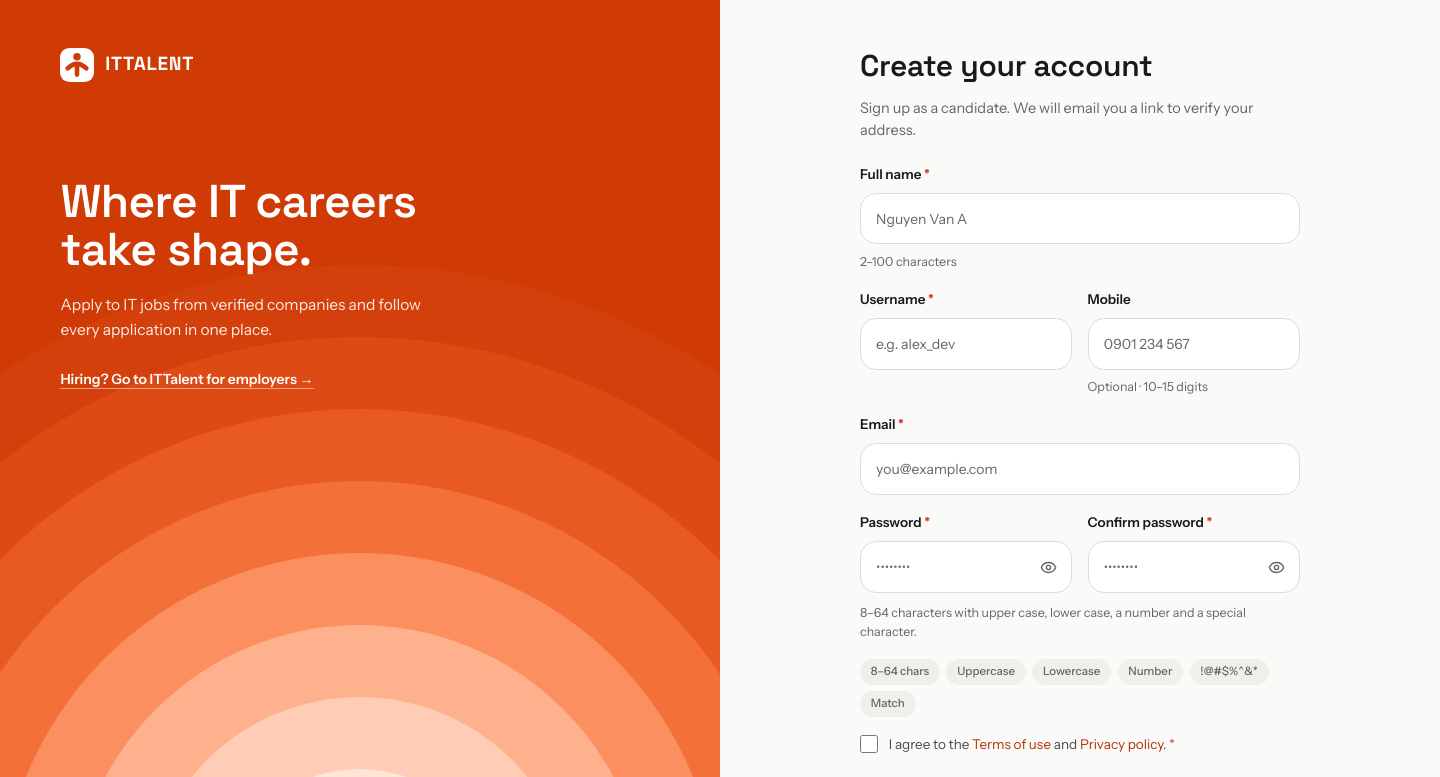
Scenario: RegisterPage › updates password requirement rules as the user types
This screenshot has width=1440, height=777.
Type "Secret123!" into the password field labelled "Password *".
click(966, 567); type("Secret123!")  # box [860,541,1072,593]
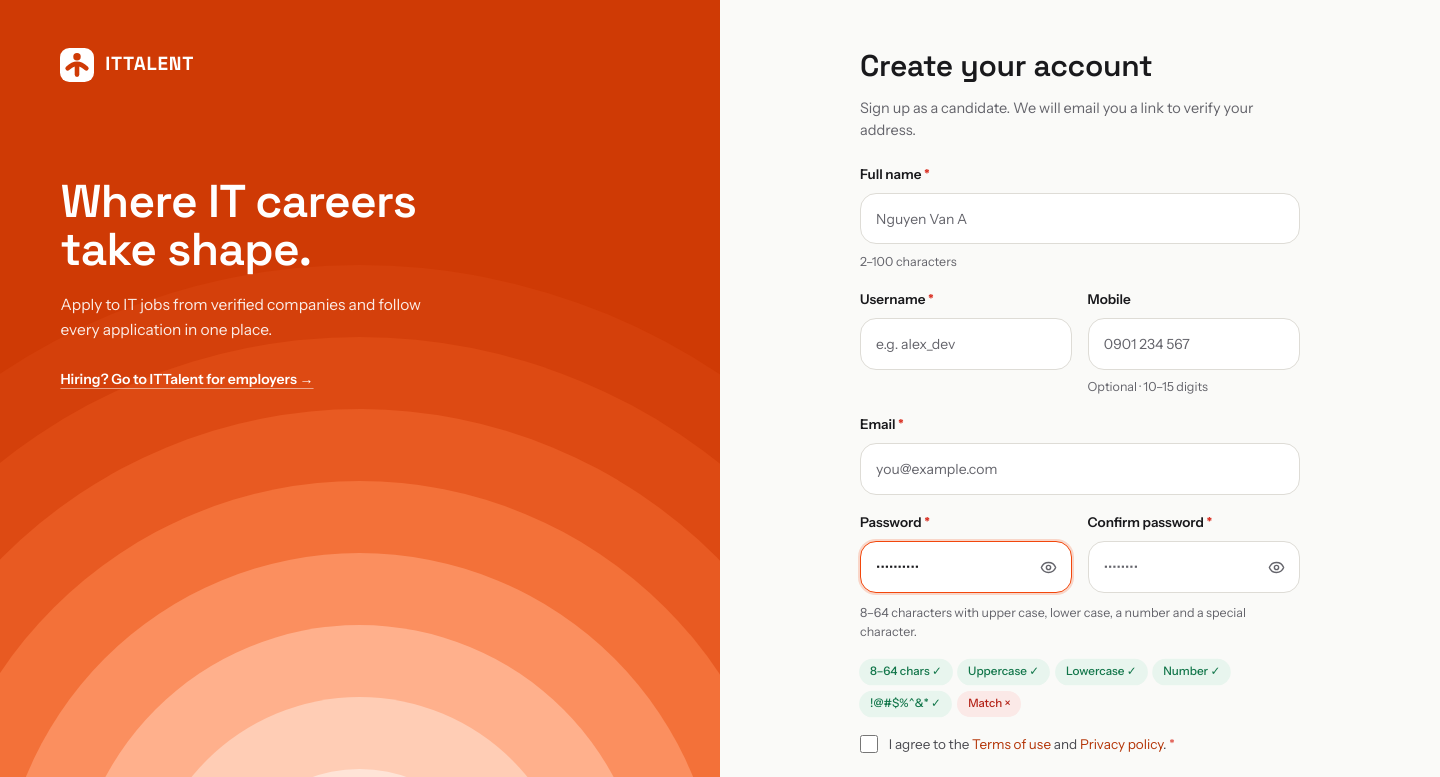
Expected: the text "8–64 chars ✓" is shown, [859,658,953,685]
Expected: the text "Uppercase ✓" is shown, [957,658,1050,685]
Expected: the text "Lowercase ✓" is shown, [1055,658,1148,685]
